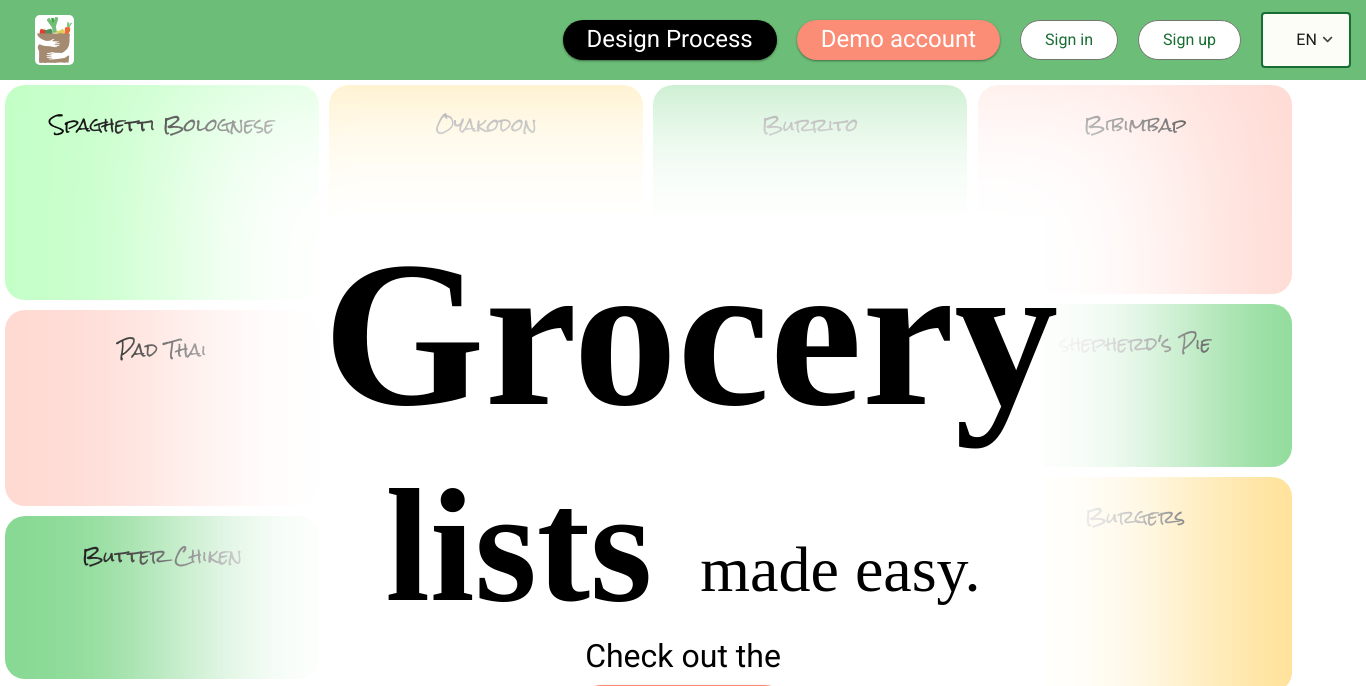
Test case: navigates from homepage to signup page
The image size is (1366, 686).
Note: Jest will find multiple buttons with the text "Sign in"
Click the button "Sign up": (1190, 40) [1138,20,1241,60]
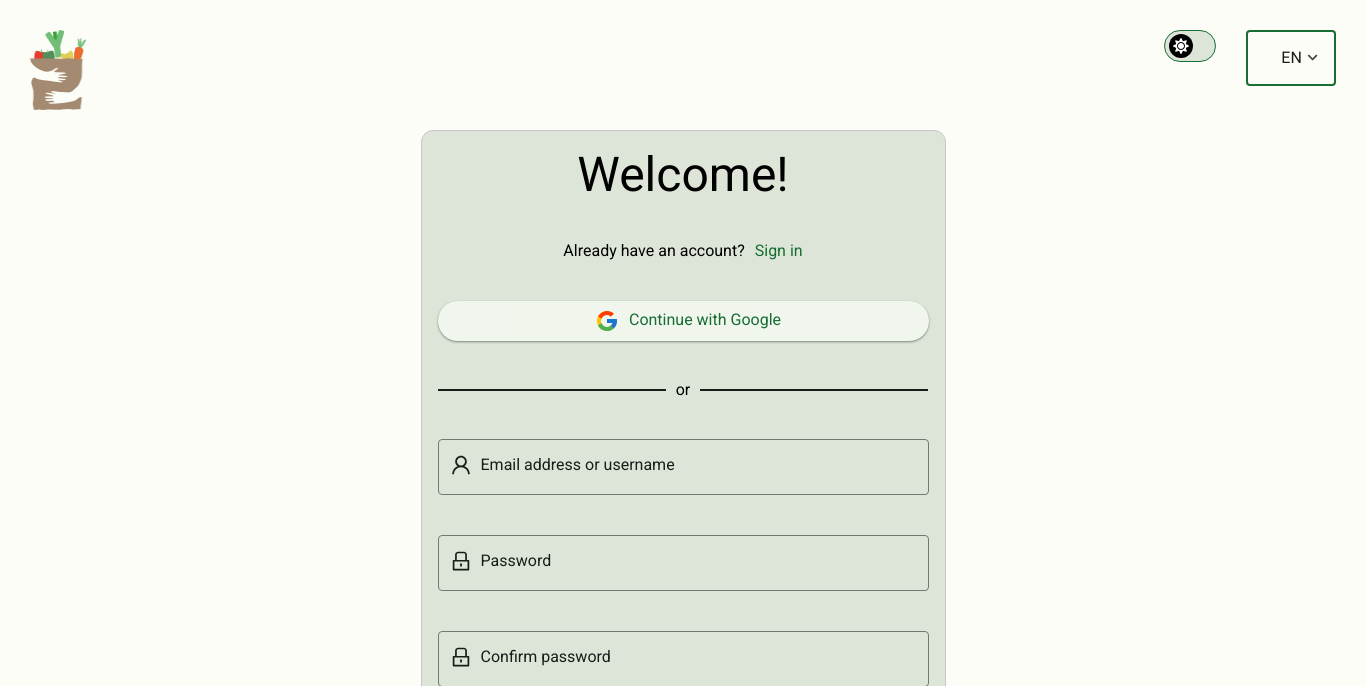
Now the text "Already have an account?" is shown, box [563,242,745,261]
